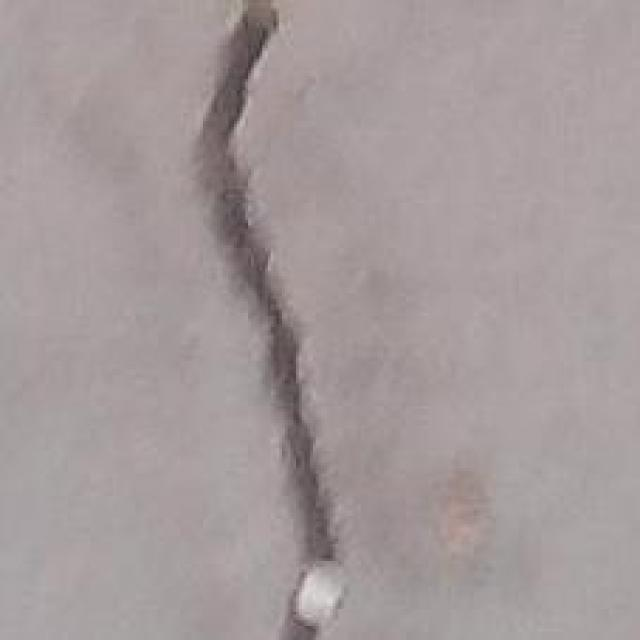vertical cracks: (201, 0, 345, 639)
